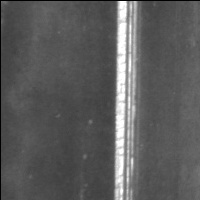scratches: (112, 1, 145, 200)
